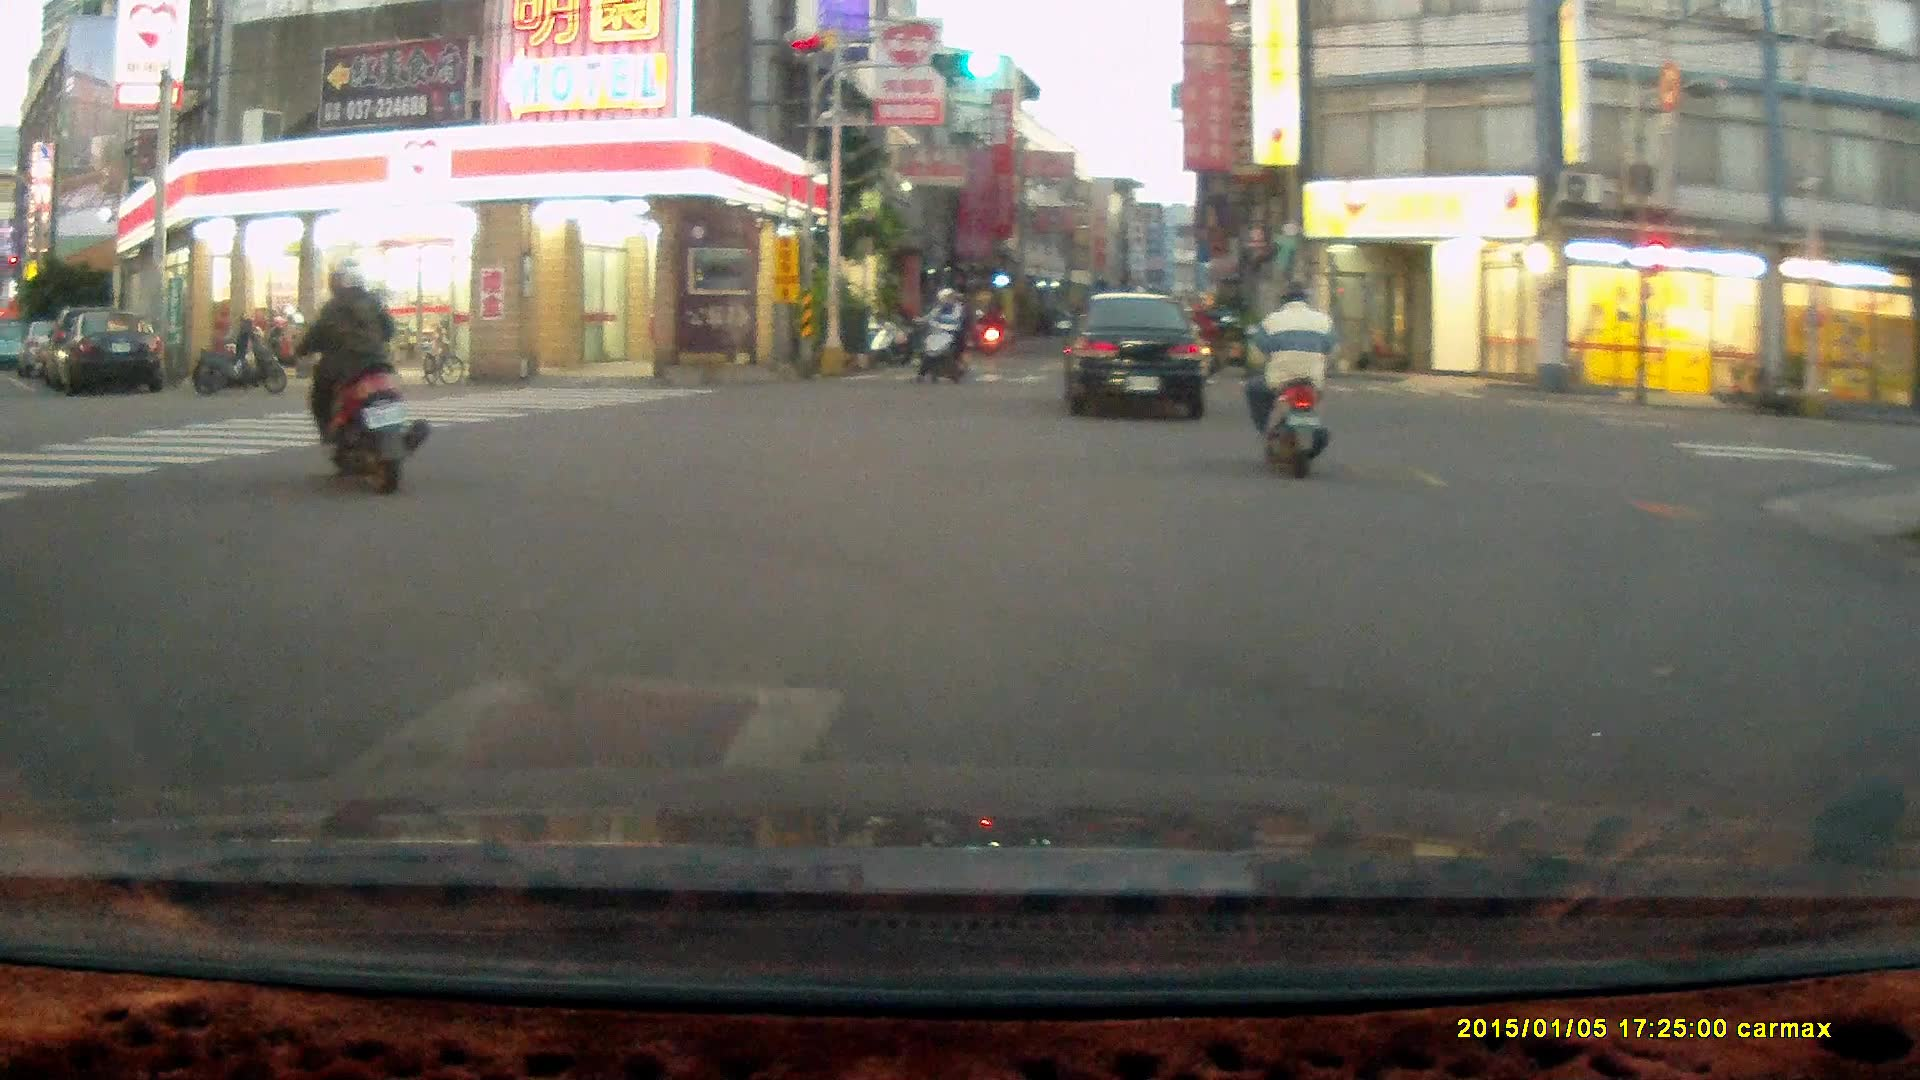rider: (287, 262, 430, 497), (1246, 279, 1336, 480), (911, 286, 969, 387), (1185, 293, 1221, 373)
vehicle: (1065, 289, 1212, 423), (68, 308, 172, 393)
